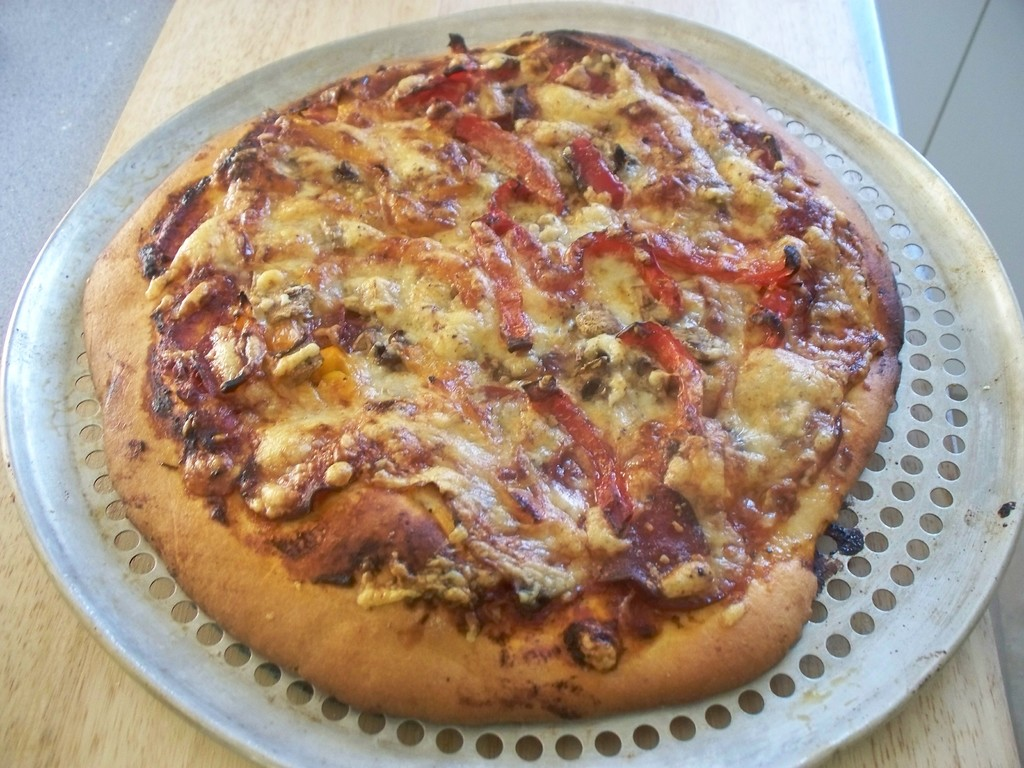Pizza: (58, 30, 918, 750)
